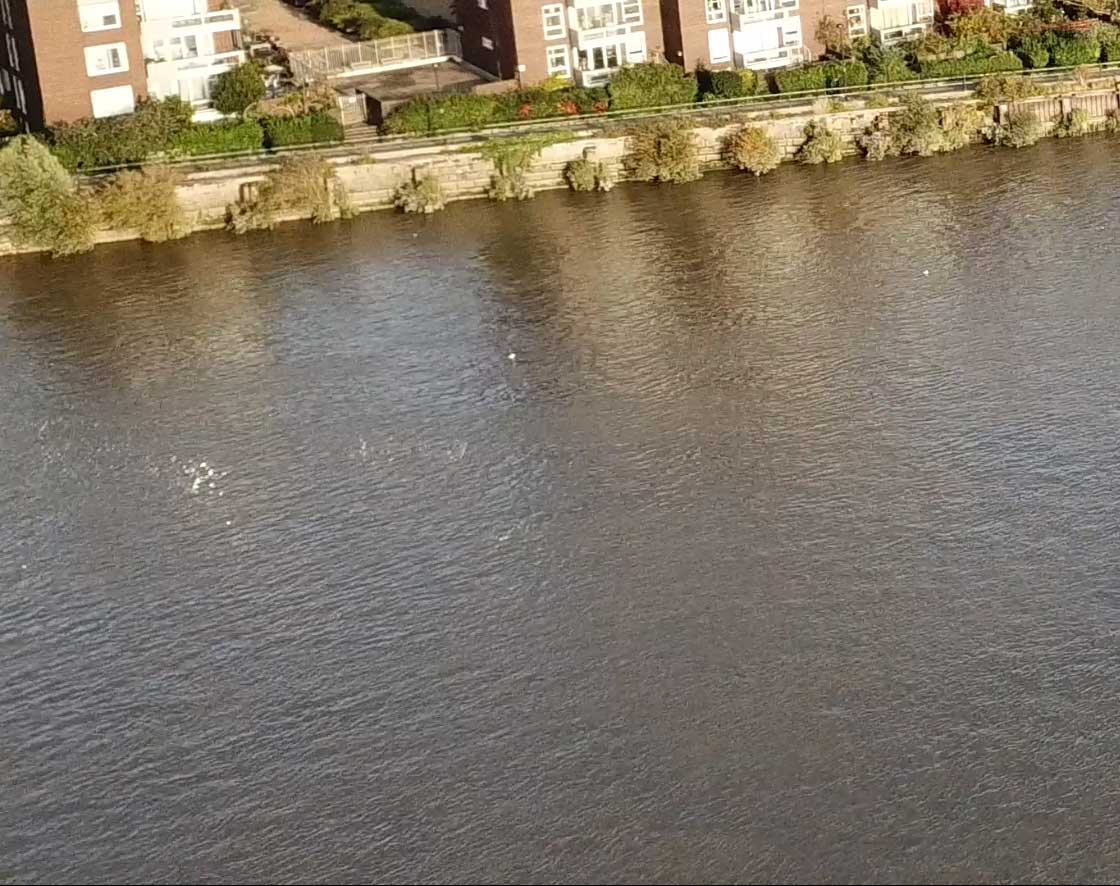water: (71, 292, 999, 800), (546, 250, 1102, 521)
